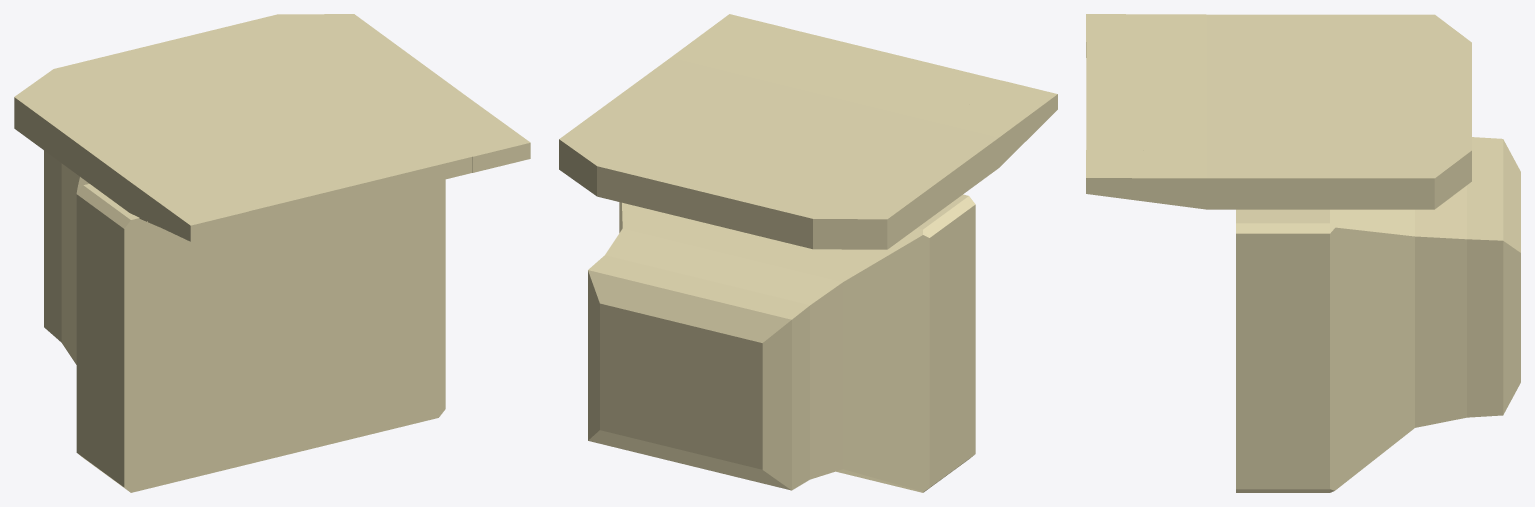
File: Computer.fbx
The picture shows the model from 3 angles, left to right: view 1: azimuth 30°, elevation 25°; view 2: azimuth 150°, elevation 25°; view 3: azimuth 270°, elevation 25°; orthographic projection. The views are drawn at different scales.
Visible parts, largest first — view 1: Cube; view 2: Cube; view 3: Cube.
Part boxes in pixels (x1=…): Cube: x1=14, y1=14, x2=530, y2=492; Cube: x1=559, y1=14, x2=1057, y2=492; Cube: x1=1086, y1=14, x2=1520, y2=492.
Size of the model in its own units: 437 by 401 by 490.
